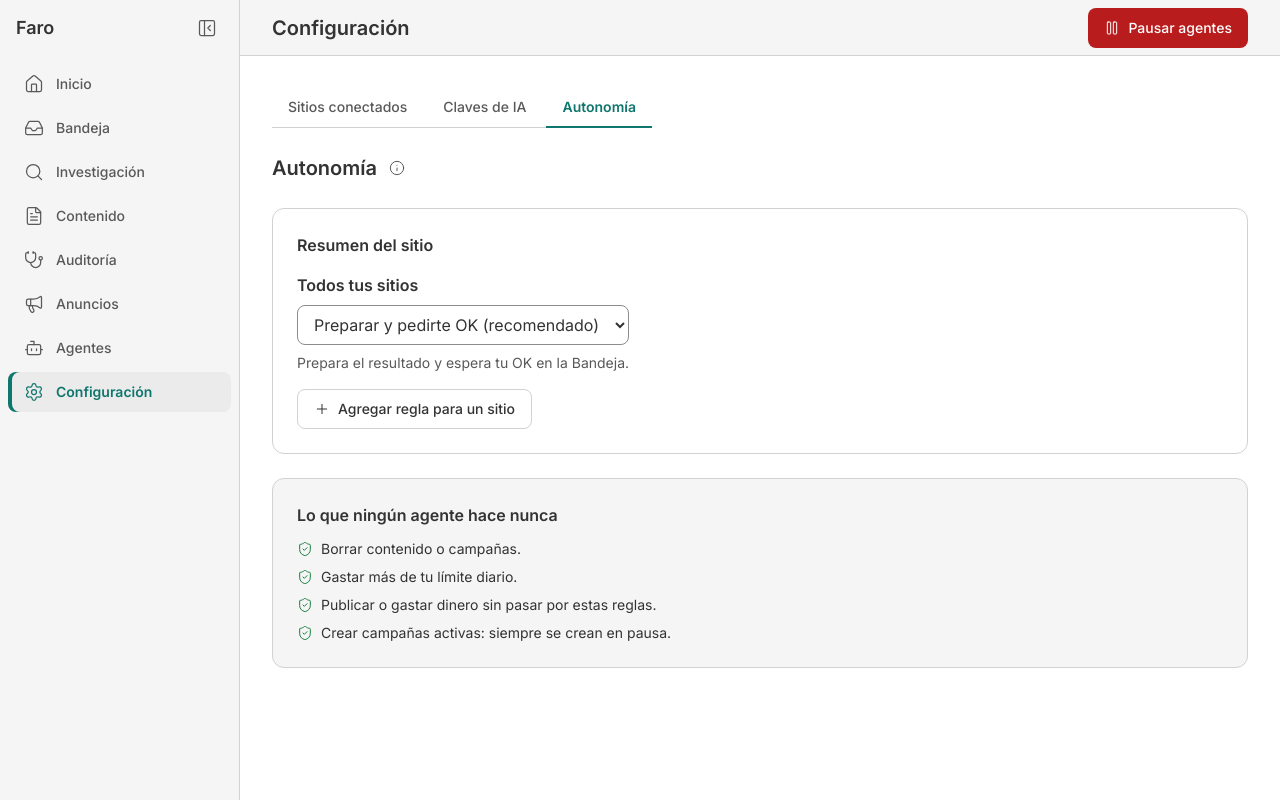
Configuración → Autonomía (spec F1b §3.7) › Piloto automático pide confirmación antes de guardar
Step 1. Select "Piloto automático" in the dropdown named "Nivel de Resumen del sitio en Todos tus sitios" → {"x": 463, "y": 325}, box [297,305,629,345]
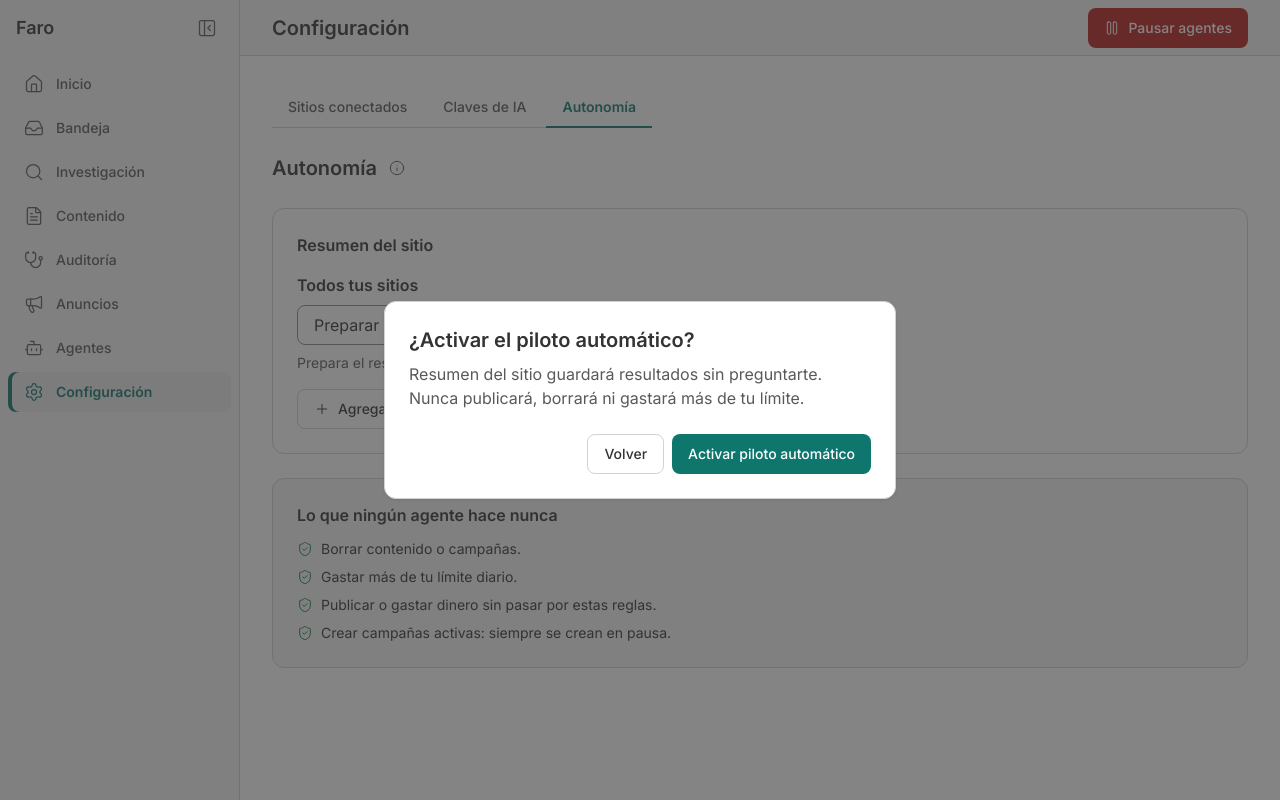
Now the dialog "¿Activar el piloto automático?" shows "Resumen del sitio guardará resultados sin preguntarte. Nunca publicará, borrará ni gastará más de tu límite.", box [409,364,822,408]
Step 2. Click the button "Volver" → {"x": 626, "y": 454}, box [587,434,664,474]
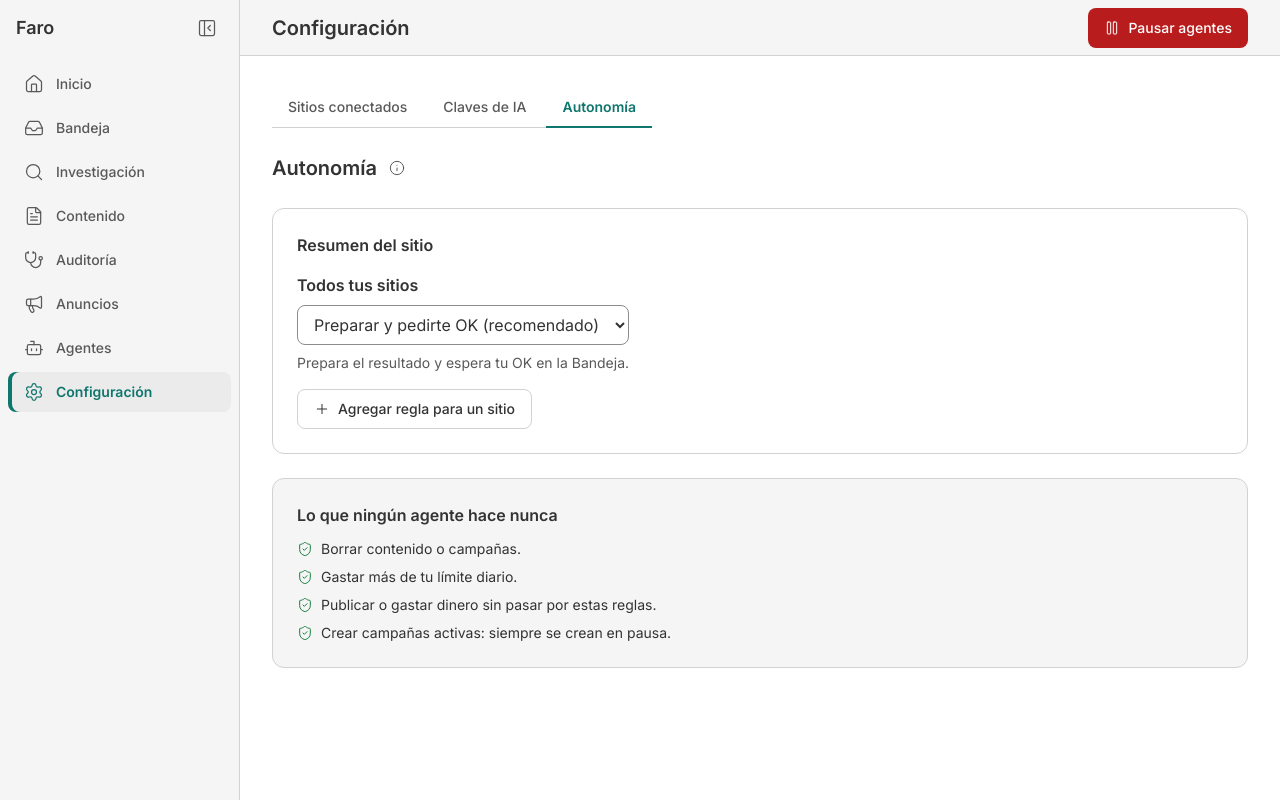
Step 3. Select "Piloto automático" in the dropdown named "Nivel de Resumen del sitio en Todos tus sitios" → {"x": 463, "y": 325}, box [297,305,629,345]
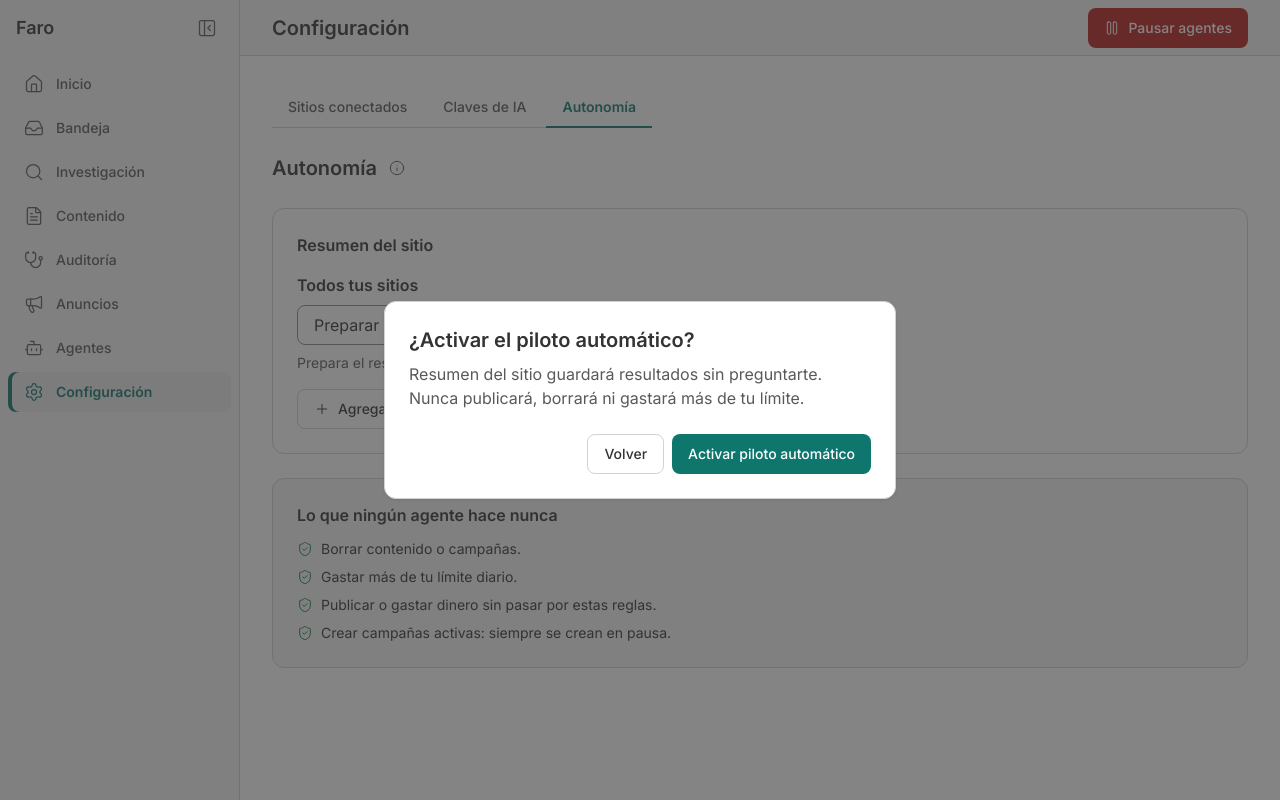
Step 4. Click the button "Activar piloto automático" → {"x": 772, "y": 454}, box [672,434,871,474]
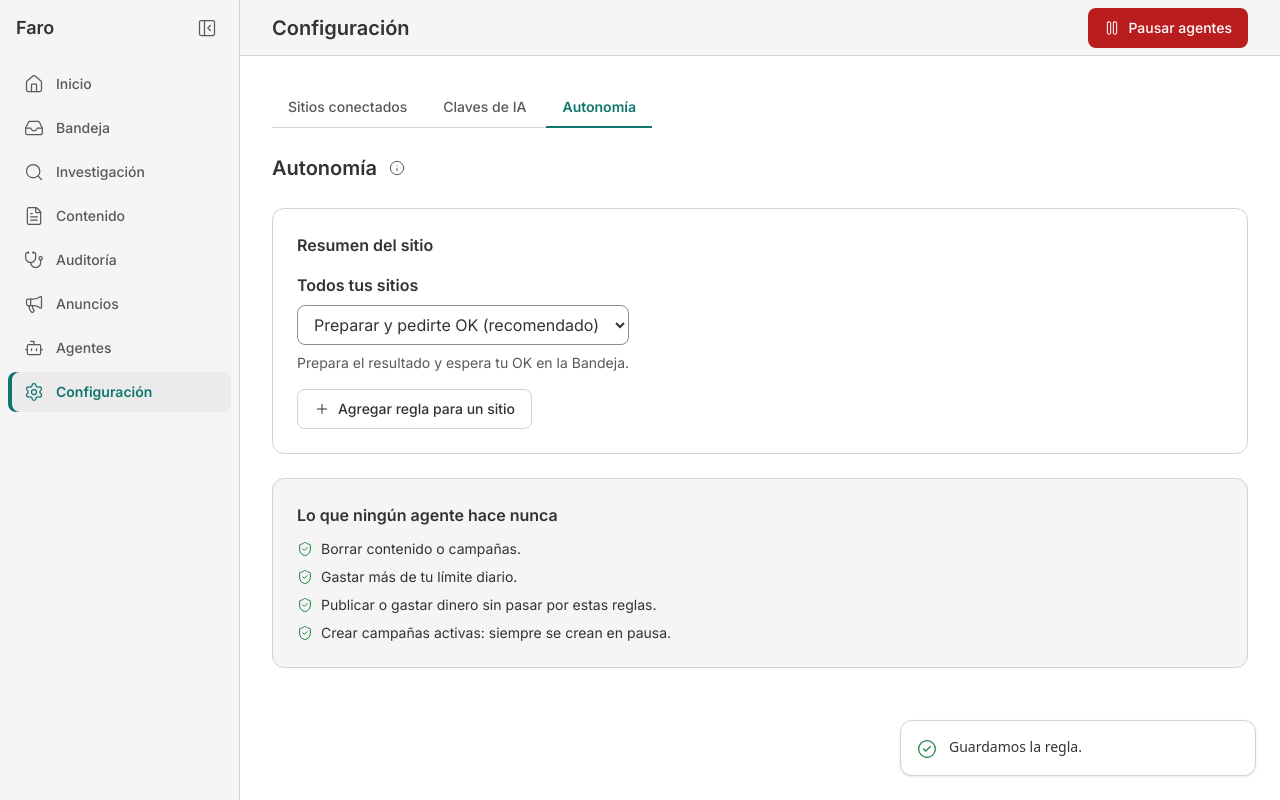
Now the text "Guardamos la regla." is shown, box [949,737,1082,757]
